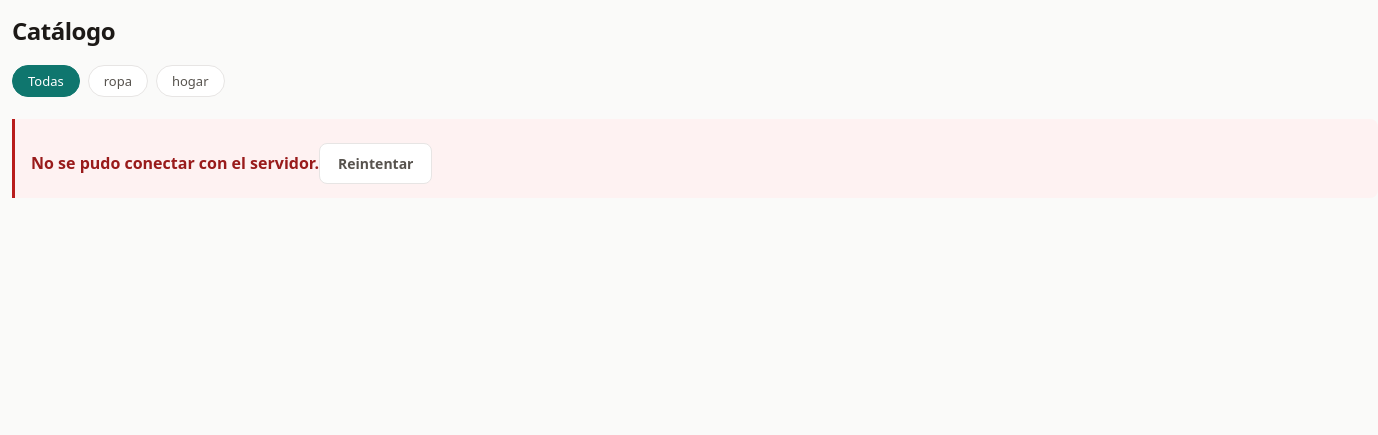
Test: VistaListado › realiza una nueva petición al pulsar Reintentar
This screenshot has width=1378, height=435.
Check: the message "No se pudo conectar con el servidor. Reintentar" is shown, box [12,119,1377,198]
Click the button "Reintentar": (376, 164) [319,143,432,184]
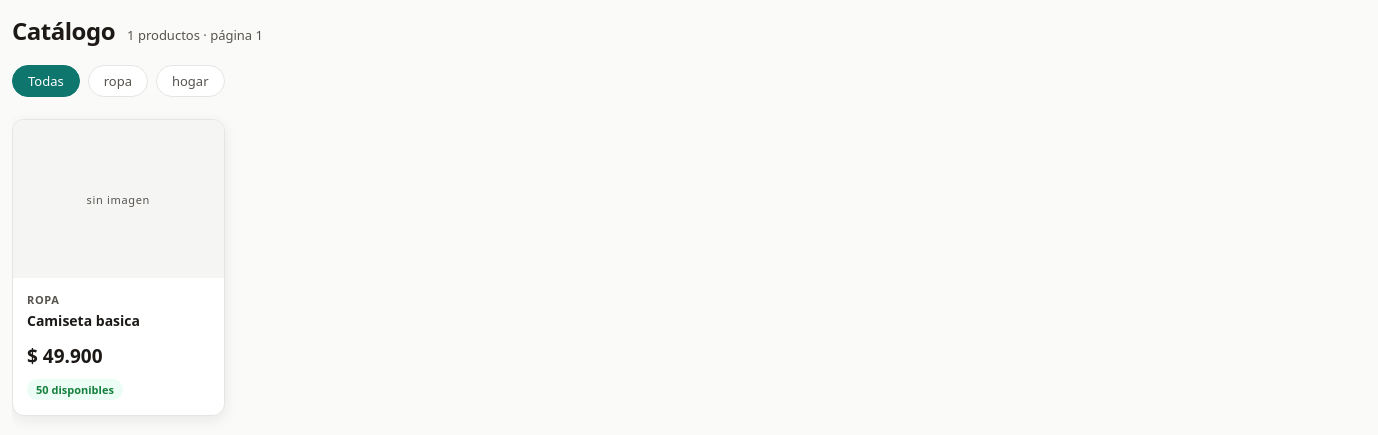
Check: the text "Camiseta basica" is shown, box [27,311,140,330]
